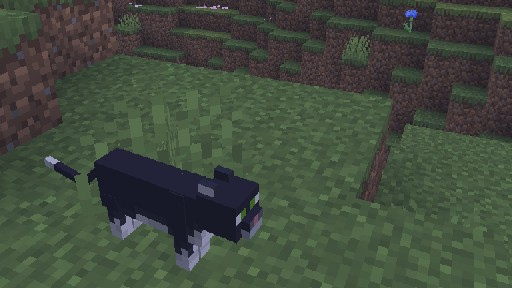cat: (43, 147, 263, 272)
